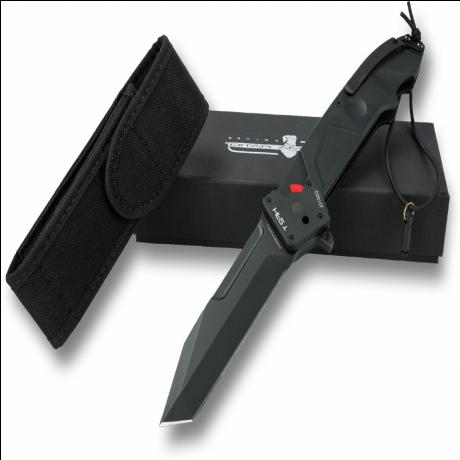weapon: (158, 29, 424, 428)
